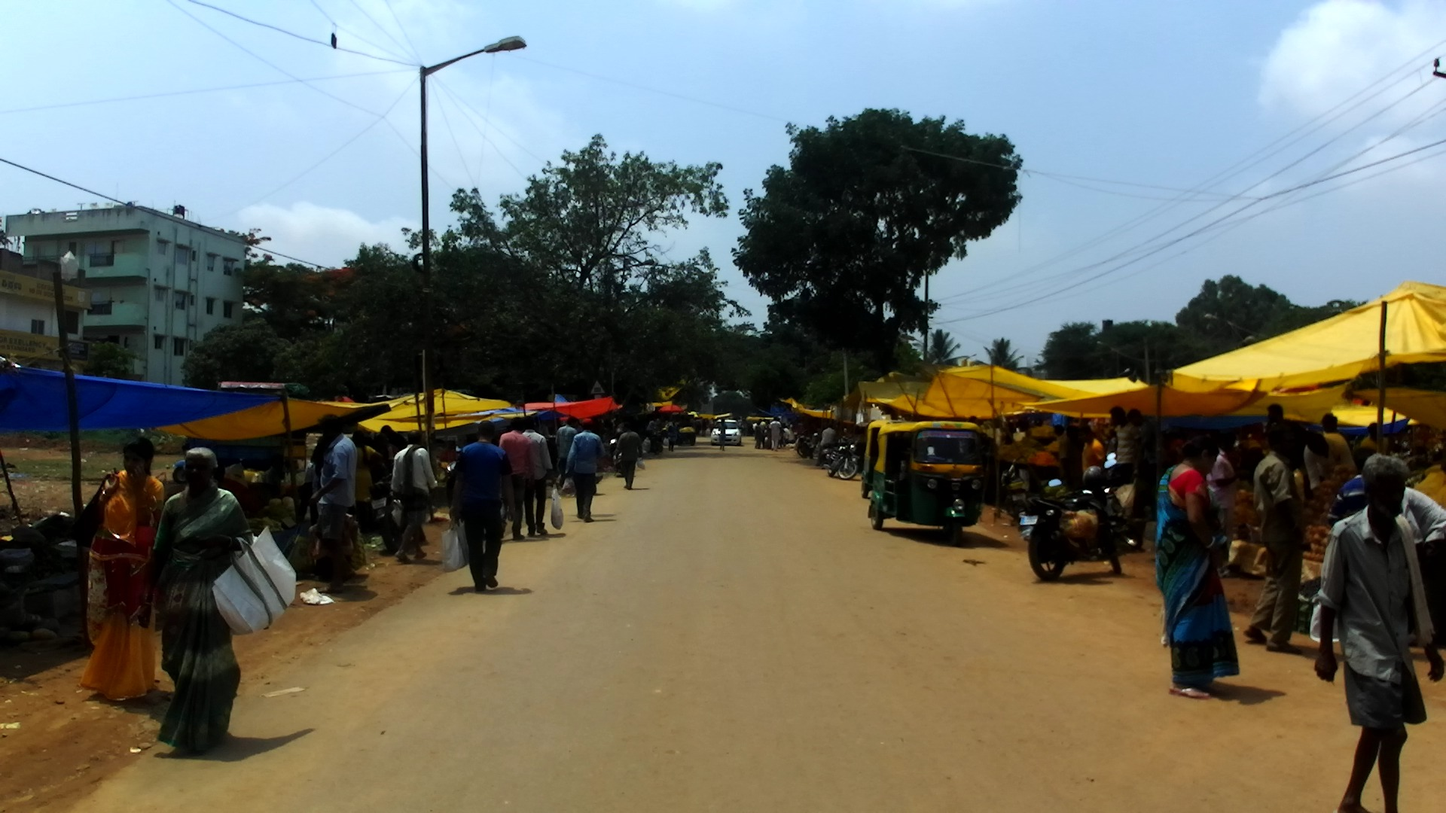autorickshaw: (867, 422, 987, 548), (858, 418, 902, 501)
car: (711, 417, 743, 446)
motorcycle: (1017, 453, 1130, 582), (365, 459, 410, 556), (997, 457, 1034, 522), (823, 434, 864, 478), (442, 458, 468, 512), (606, 440, 633, 477), (795, 434, 818, 461), (649, 430, 665, 456), (820, 443, 833, 466)
person: (1312, 452, 1444, 813), (139, 446, 257, 753), (1152, 433, 1242, 699), (83, 437, 167, 703), (1240, 415, 1308, 655), (452, 418, 516, 592), (1386, 484, 1445, 651), (309, 413, 358, 595), (387, 428, 437, 565), (1208, 423, 1245, 580), (497, 416, 538, 543), (1329, 452, 1388, 534), (1126, 403, 1163, 521), (1103, 406, 1148, 503), (563, 417, 603, 522), (520, 414, 554, 536), (316, 439, 344, 576), (1301, 430, 1357, 492), (349, 429, 385, 509), (1072, 420, 1106, 494), (1259, 402, 1294, 463), (613, 421, 642, 492), (551, 415, 575, 491), (1050, 420, 1075, 489), (300, 453, 321, 534), (1359, 420, 1392, 460), (259, 452, 286, 498), (380, 425, 408, 469), (1316, 413, 1347, 448), (239, 450, 263, 492), (437, 433, 465, 465), (816, 421, 840, 449), (768, 414, 781, 451), (718, 413, 728, 454), (667, 417, 678, 450), (761, 417, 770, 450), (755, 419, 764, 450), (764, 420, 773, 450), (784, 419, 792, 448), (695, 416, 703, 440), (701, 414, 709, 437)
rider: (645, 413, 657, 458), (618, 419, 627, 448)
truck: (170, 380, 308, 489)
vehicle fallback: (676, 425, 697, 446)
